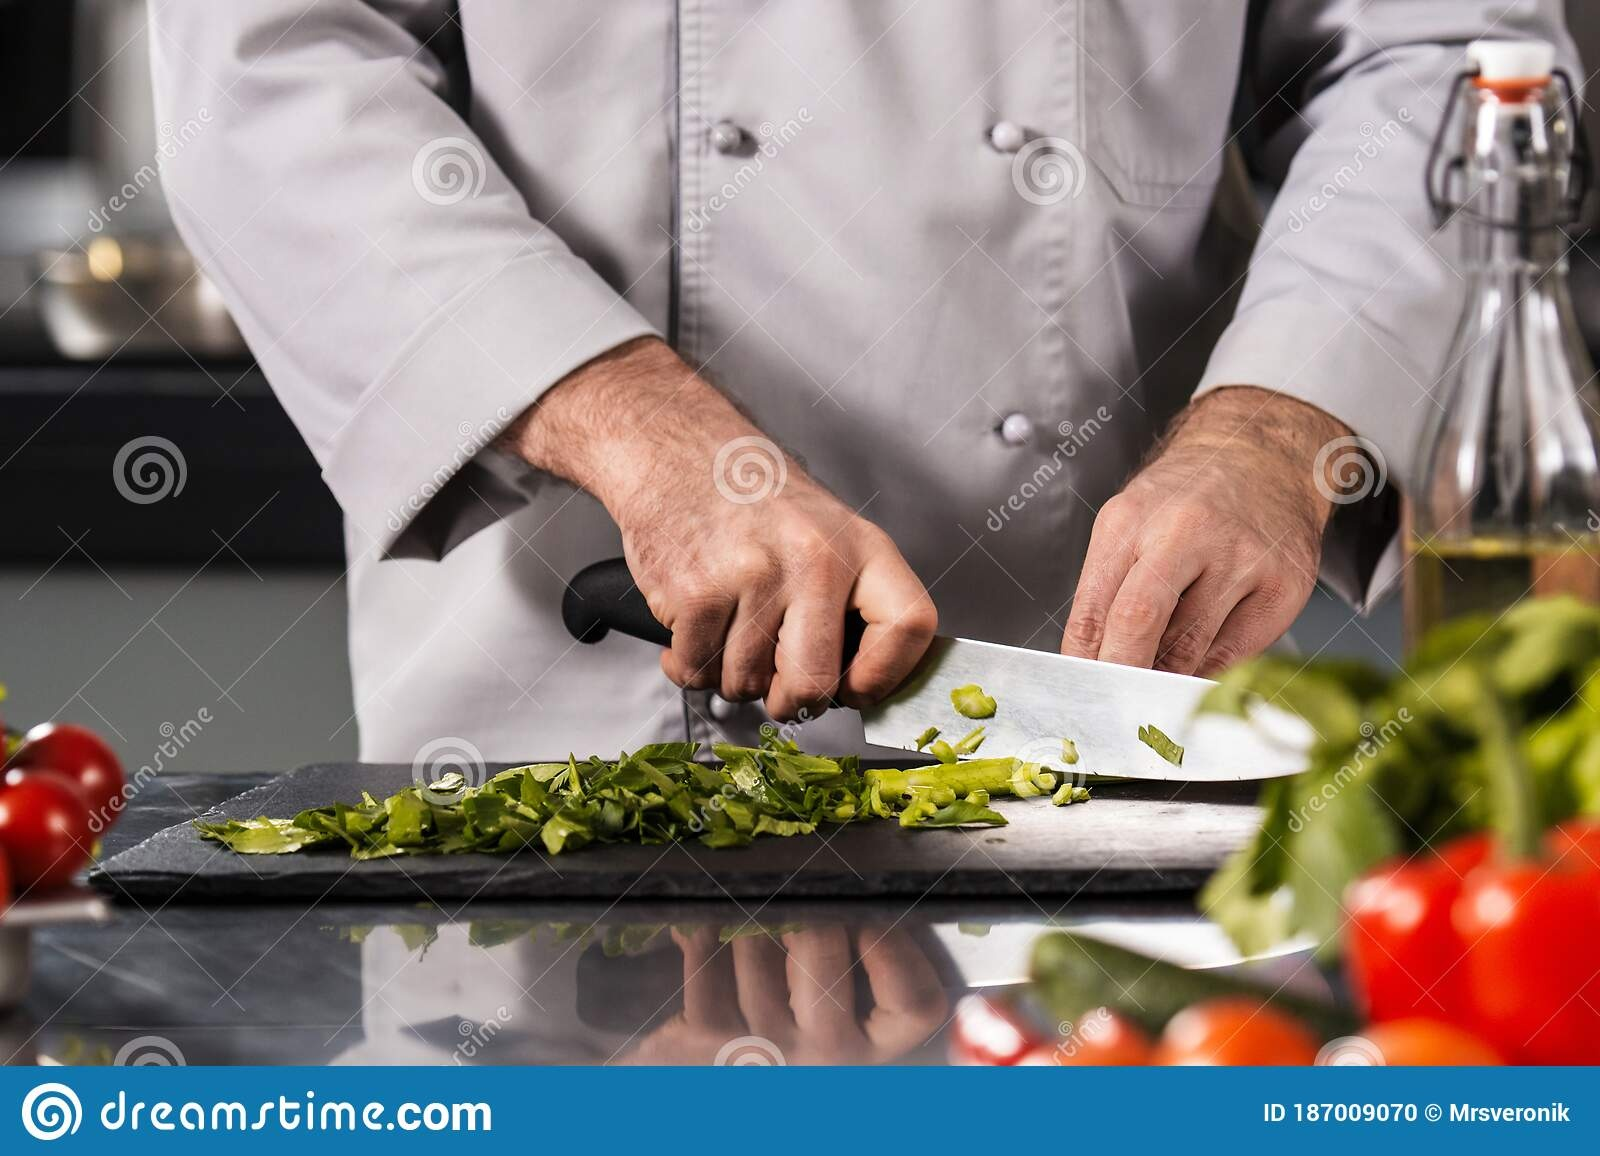knife: (559, 553, 1323, 791)
